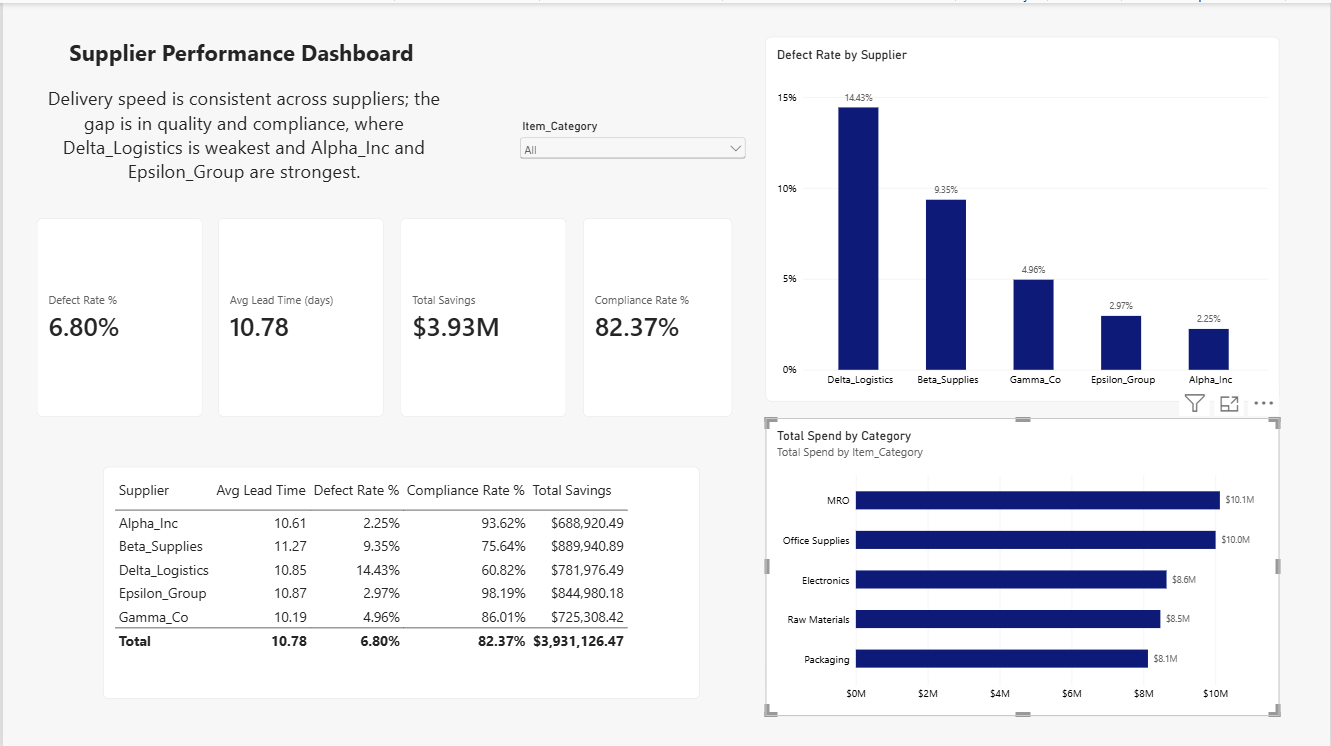

This screenshot's page, from the dashboard's own definition file:
{"tool":"powerbi","page":{"name":"Page 1","canvas":[1920,1080],"ordinal":0},"visuals":[{"type":"cardVisual","fields":{"Data":["Procurement KPI Analysis Dataset.Avg Lead Time"]},"box":[312,312,240,288],"z":0},{"type":"cardVisual","fields":{"Data":["Procurement KPI Analysis Dataset.Defect Rate %"]},"box":[48,312,240,288],"z":1000},{"type":"cardVisual","fields":{"Data":["Procurement KPI Analysis Dataset.Compliance Rate %"]},"box":[840,312,216,288],"z":2000},{"type":"cardVisual","fields":{"Data":["Procurement KPI Analysis Dataset.Total Savings"]},"box":[576,312,240,288],"z":3000},{"type":"tableEx","fields":{"Values":["Procurement KPI Analysis Dataset.Supplier","Procurement KPI Analysis Dataset.Avg Lead Time","Procurement KPI Analysis Dataset.Defect Rate %","Procurement KPI Analysis Dataset.Compliance Rate %","Procurement KPI Analysis Dataset.Total Savings"]},"box":[144,672,864,336],"z":4000},{"type":"clusteredColumnChart","title":"Defect Rate by Supplier","fields":{"Category":["Procurement KPI Analysis Dataset.Supplier"],"Y":["Procurement KPI Analysis Dataset.Defect Rate %"]},"box":[1104,48,744,528],"z":5000},{"type":"barChart","title":"Total Spend by Category","fields":{"Category":["Procurement KPI Analysis Dataset.Item_Category"],"Y":["Procurement KPI Analysis Dataset.Total Spend"]},"box":[1104,600,744,432],"z":6000},{"type":"textbox","box":[96,48,552,48],"z":7000},{"type":"textbox","box":[48,120,600,168],"z":8000},{"type":"slicer","fields":{"Values":["Procurement KPI Analysis Dataset.Item_Category"]},"box":[744,168,336,72],"z":9000}]}

Visuals, with their boxes in screenshot pixels (x1, y1, x2, y2), scaled from the page's 1920x1080 canvas onto the 1331x746 screenshot:
cardVisual - Procurement KPI Analysis Dataset.Avg Lead Time: [x1=216, y1=216, x2=383, y2=414]
cardVisual - Procurement KPI Analysis Dataset.Defect Rate %: [x1=33, y1=216, x2=200, y2=414]
cardVisual - Procurement KPI Analysis Dataset.Compliance Rate %: [x1=582, y1=216, x2=732, y2=414]
cardVisual - Procurement KPI Analysis Dataset.Total Savings: [x1=399, y1=216, x2=566, y2=414]
tableEx - Procurement KPI Analysis Dataset.Supplier x Procurement KPI Analysis Dataset.Avg Lead Time: [x1=100, y1=464, x2=699, y2=696]
"Defect Rate by Supplier" clusteredColumnChart: [x1=765, y1=33, x2=1281, y2=398]
"Total Spend by Category" barChart: [x1=765, y1=414, x2=1281, y2=713]
textbox: [x1=67, y1=33, x2=449, y2=66]
textbox: [x1=33, y1=83, x2=449, y2=199]
slicer - Procurement KPI Analysis Dataset.Item_Category: [x1=516, y1=116, x2=749, y2=166]
